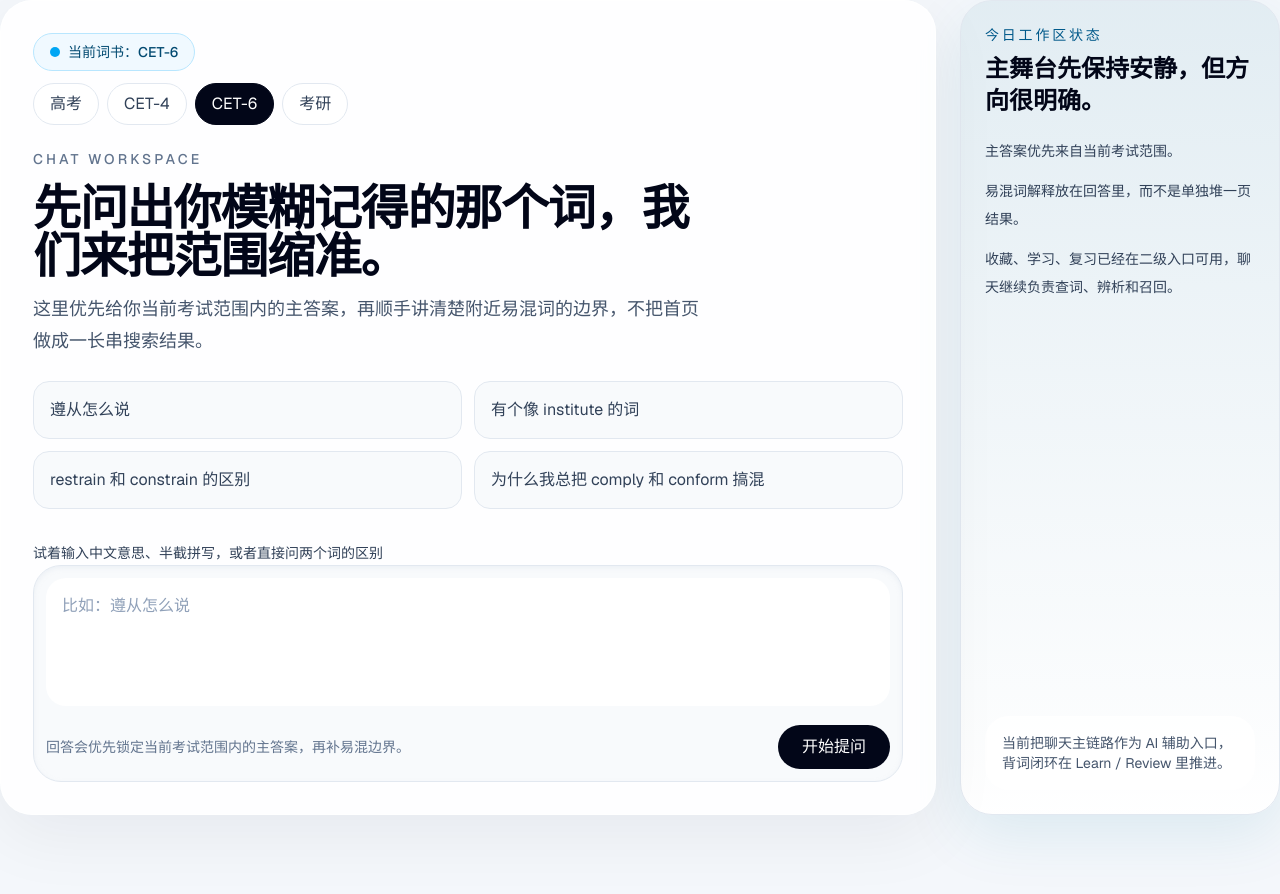
Test case: ChatWorkspace › renders a no-match assistant card without an empty main-answer section
This screenshot has width=1280, height=894.
Type "recent 这个词什么意思" into the text box with test id "chat-input" at (468, 642), box [46,578,890,706]
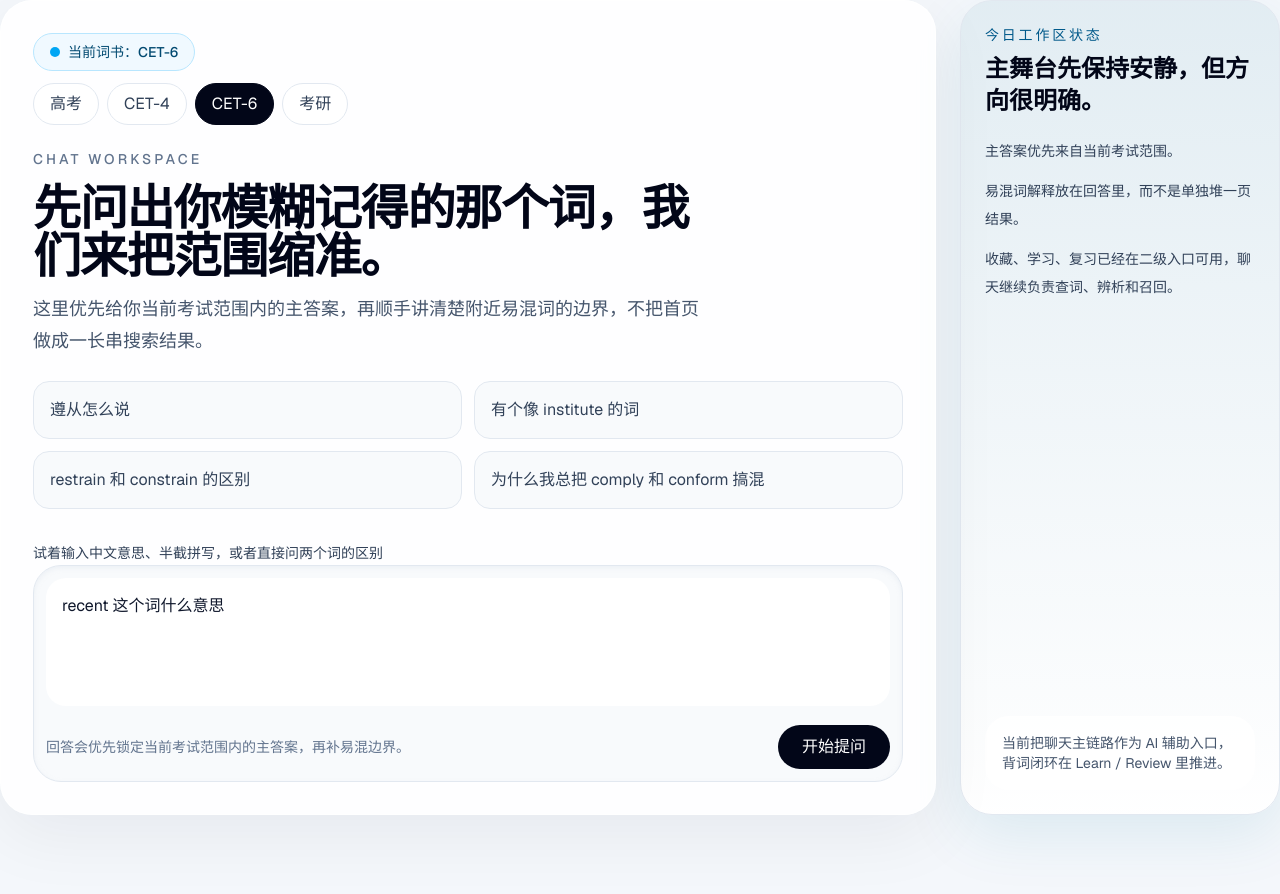
Click the button "开始提问" at (834, 747), box [778,725,890,769]
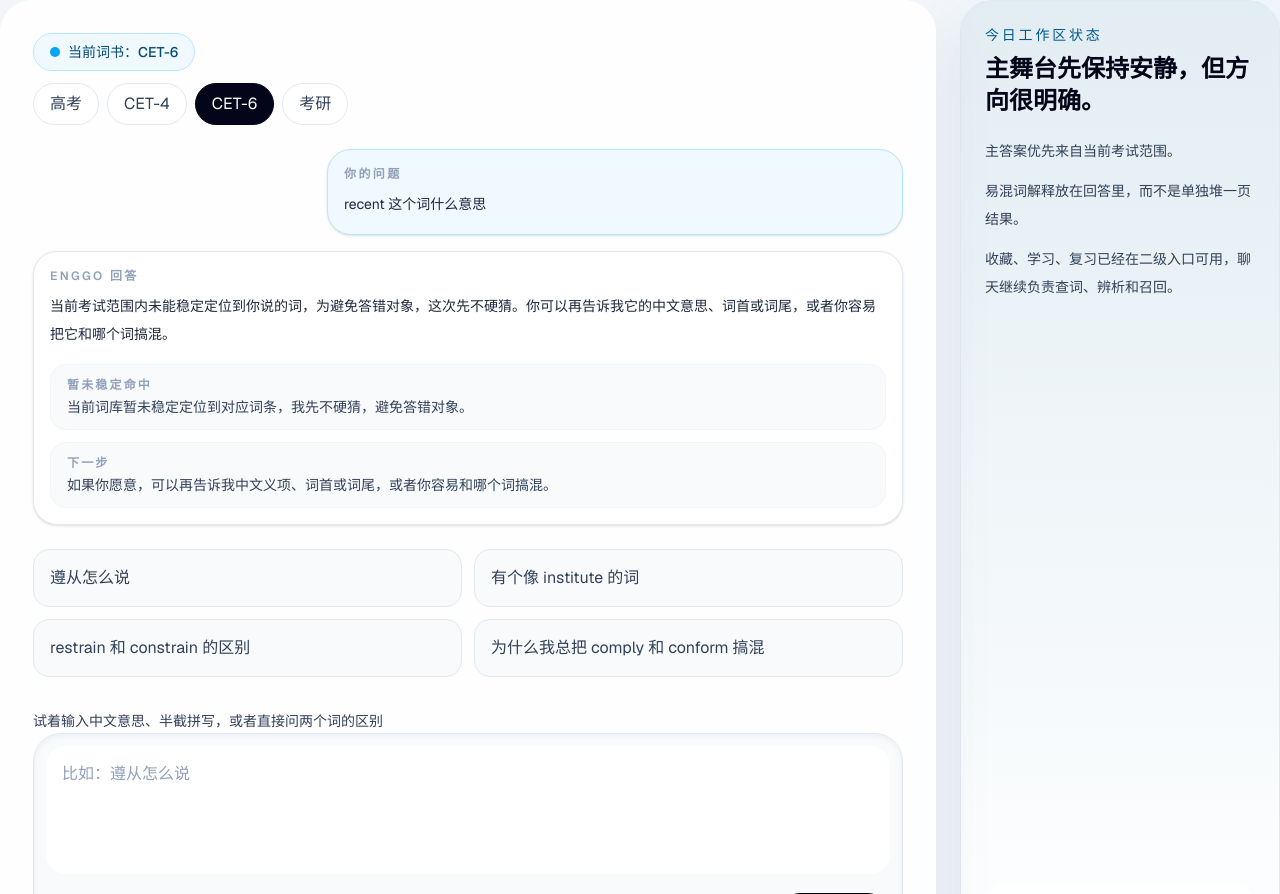
Expected: the text "这次先不硬猜" is shown, [50,297,876,343]
Expected: the text "暂未稳定命中" is shown, [67,377,152,393]
